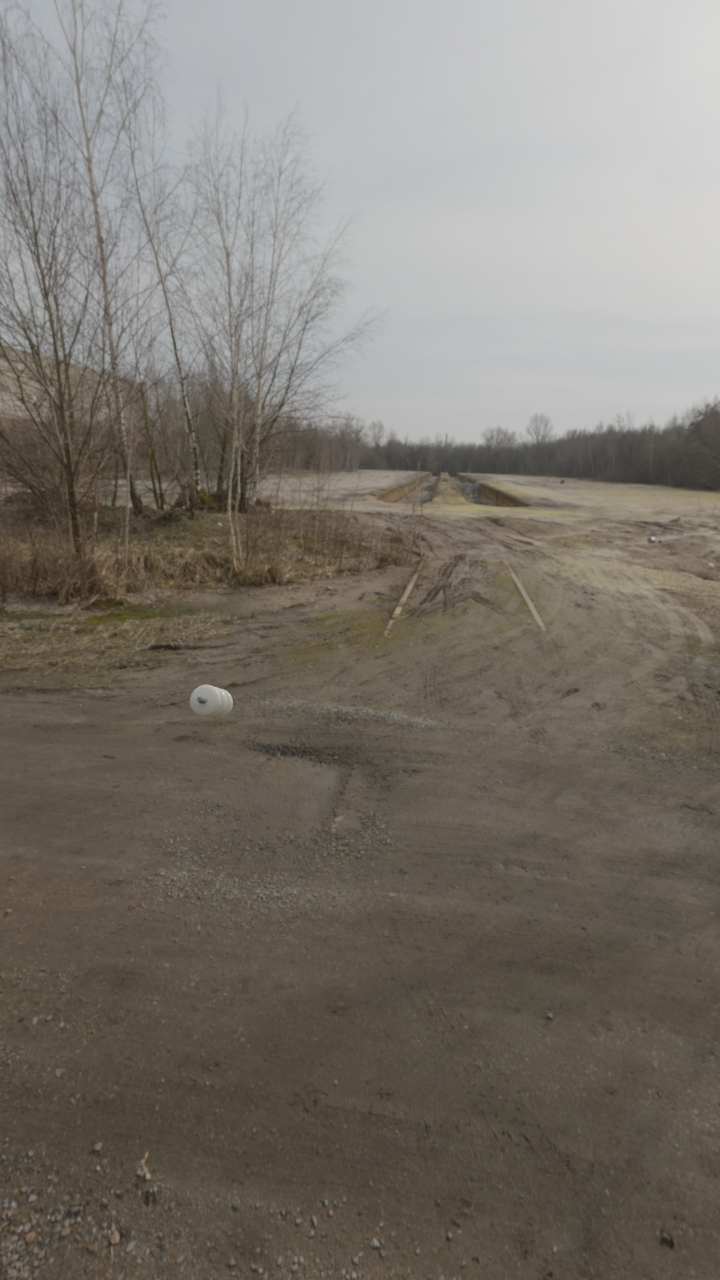ceramicinsulators: (190, 685, 233, 719)
